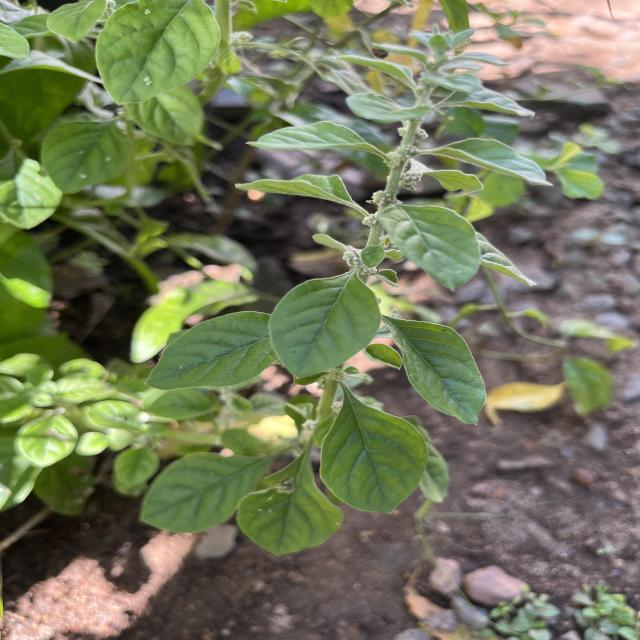Aerva lanata: (316, 384, 430, 517), (264, 268, 384, 387), (378, 314, 488, 428), (142, 307, 278, 394)
